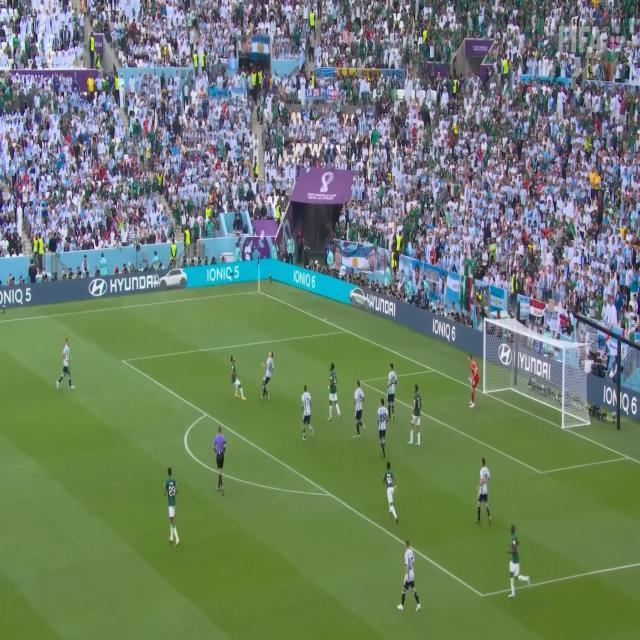player: (156, 465, 186, 552), (506, 517, 533, 611), (400, 530, 424, 626), (298, 380, 320, 447), (325, 354, 345, 426), (476, 452, 494, 529), (407, 381, 425, 449), (383, 460, 401, 527), (353, 373, 369, 441), (260, 346, 277, 409), (227, 352, 247, 404), (466, 349, 482, 414), (385, 356, 399, 428), (57, 332, 74, 391), (376, 393, 389, 463)
